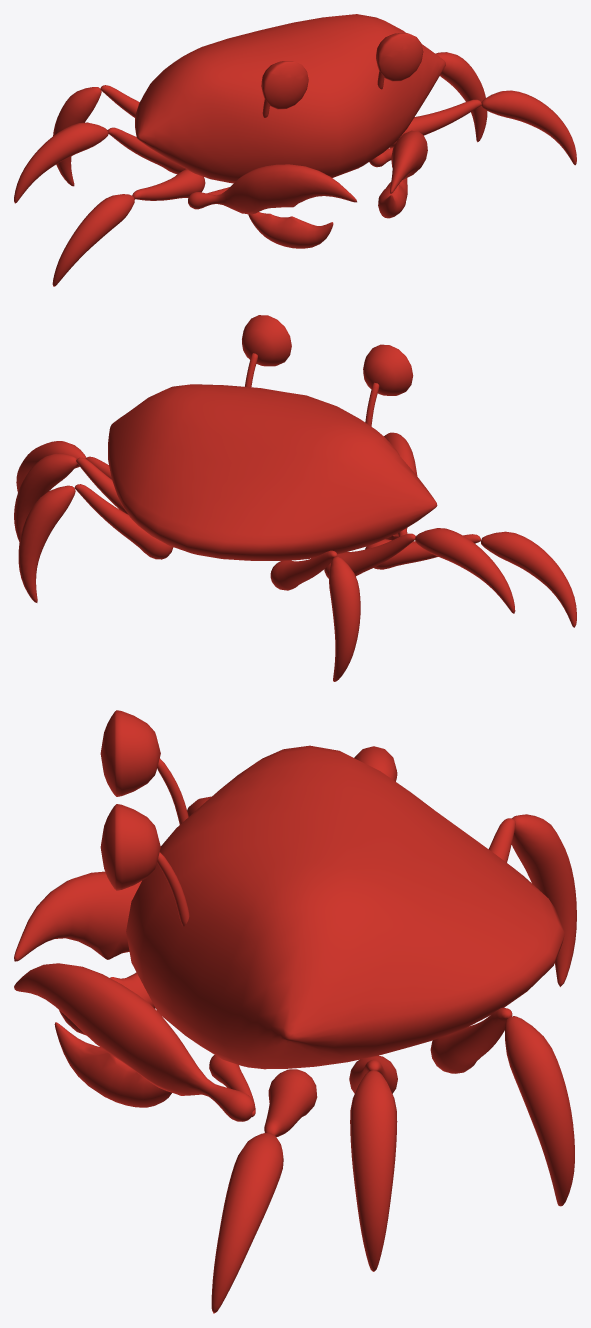
File: Cangrejo.obj
3 renders of one model, top to bottom at view 1: azimuth 30°, elevation 25°; view 2: azimuth 150°, elevation 25°; view 3: azimuth 270°, elevation 25°, orthographic. The views are drawn at different scales.
Visible parts, largest first — view 1: Cangrejo, Cangrejo.002; view 2: Cangrejo; view 3: Cangrejo, Cangrejo.002.
Boxes of the visible parts, box(x1,y1,x2,y2) form: Cangrejo: box(14, 14, 576, 286); Cangrejo.002: box(248, 178, 407, 248); Cangrejo: box(14, 315, 576, 681); Cangrejo: box(14, 710, 576, 1313); Cangrejo.002: box(54, 972, 171, 1107).
Size of the model in its own units: 3.81 by 1.41 by 2.11.
